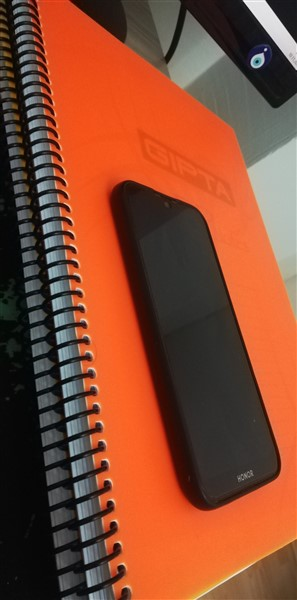telefon: (106, 172, 292, 516)
